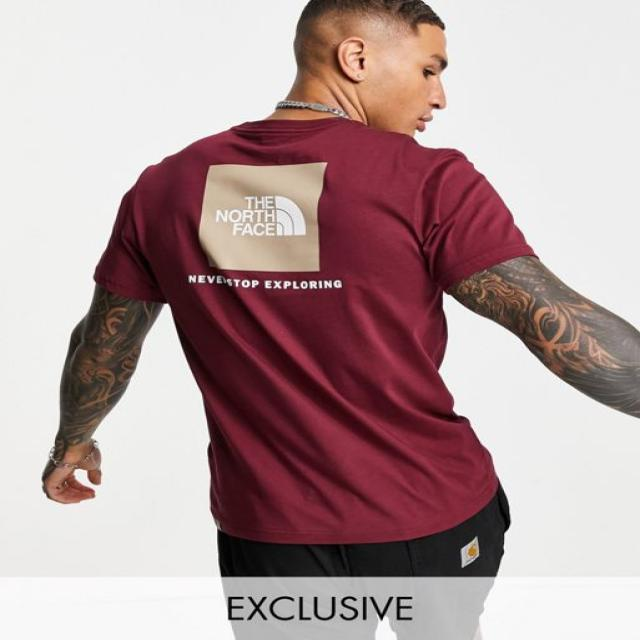tshirt: (88, 116, 536, 542)
